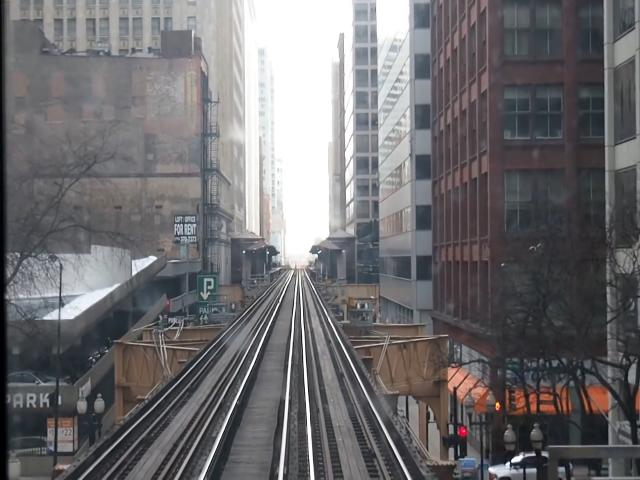signal light: (458, 427, 470, 458)
